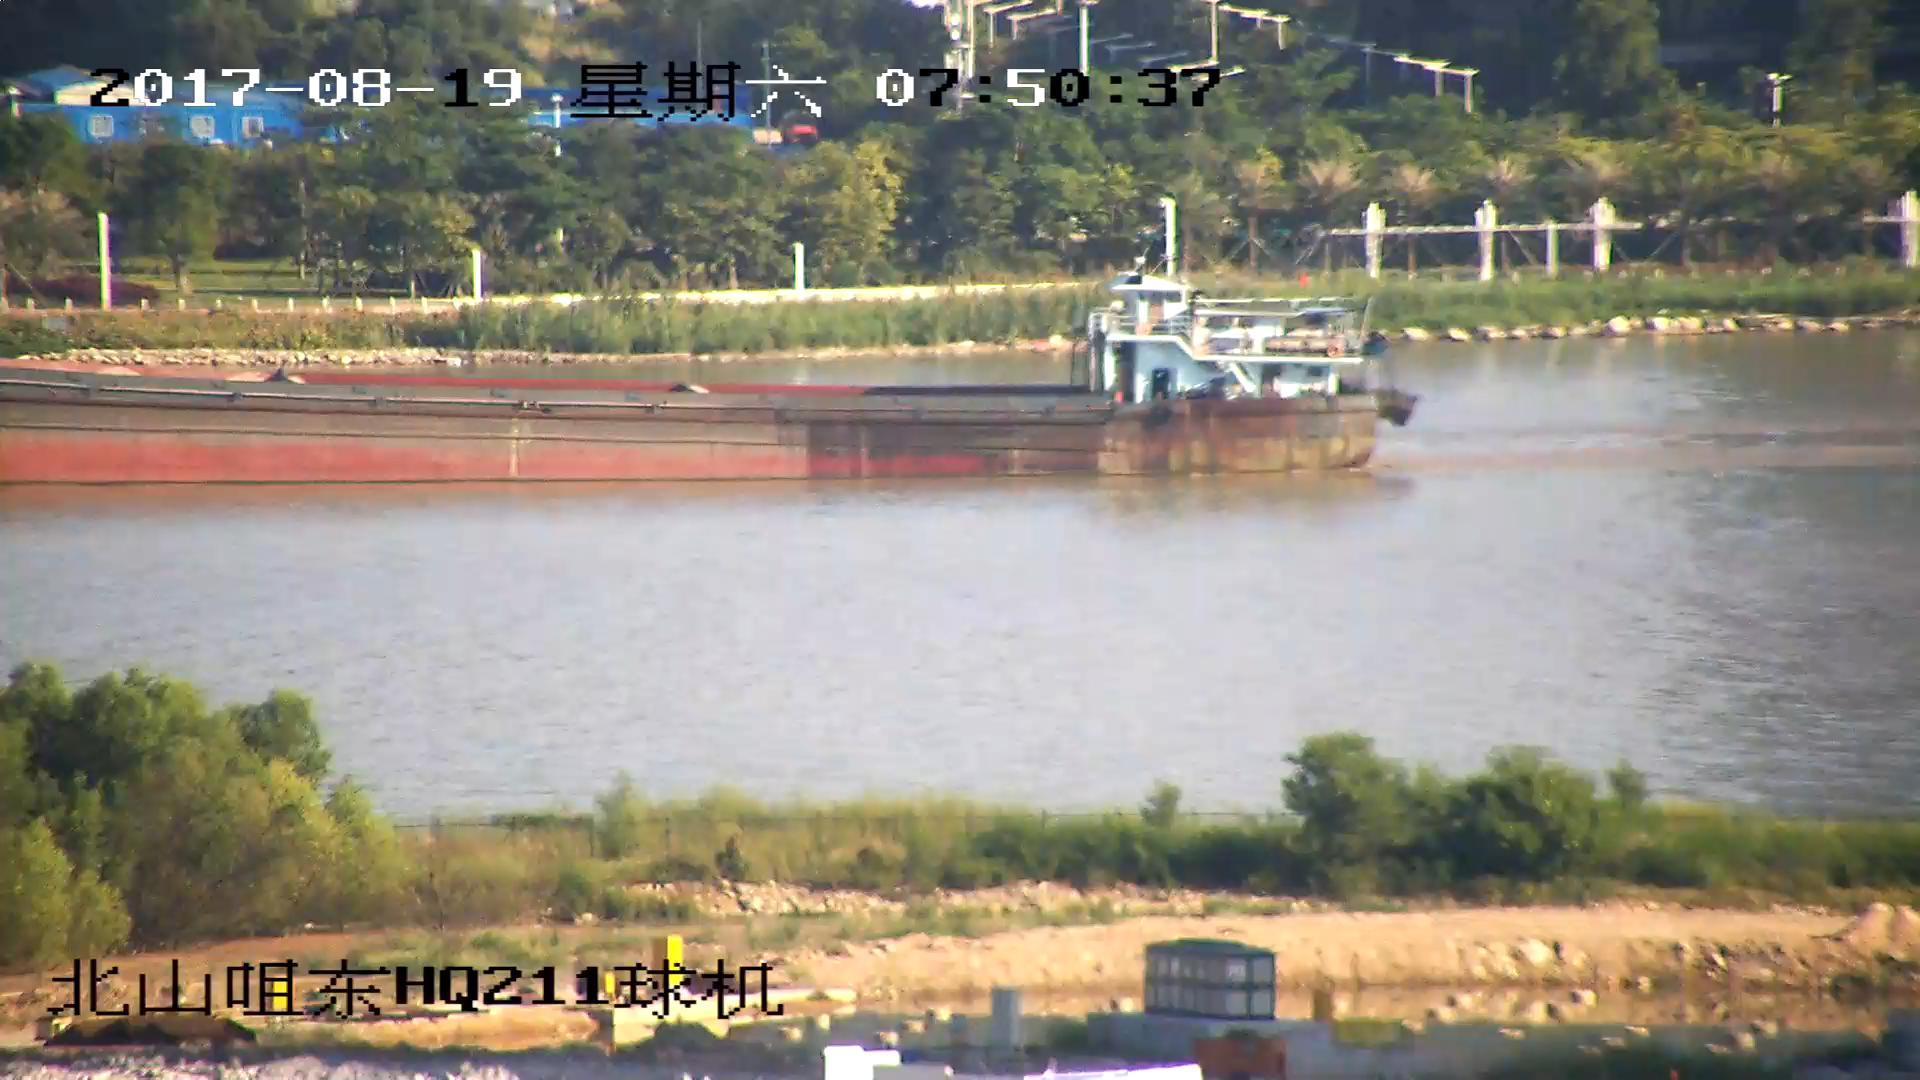Ship: (3, 251, 1418, 485)
